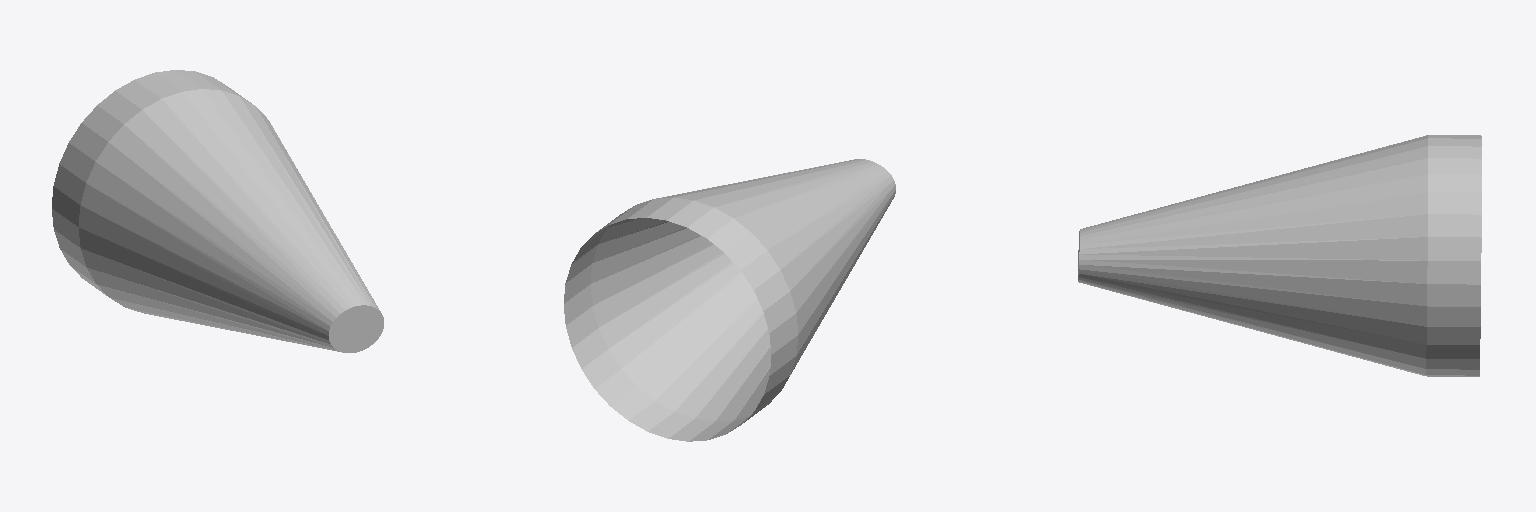
The model's file is RifleBulletTip.obj.
3 renders of one model, left to right at view 1: azimuth 30°, elevation 25°; view 2: azimuth 150°, elevation 25°; view 3: azimuth 270°, elevation 25°, orthographic.
Parts seen in each view (by area): view 1: Cylinder.001; view 2: Cylinder.001; view 3: Cylinder.001.
Part boxes in pixels (x1,y1,x2,y2): Cylinder.001: (52, 70, 383, 352); Cylinder.001: (564, 159, 895, 441); Cylinder.001: (1078, 135, 1481, 376).
Size of the model in its own units: 1.75 by 1.76 by 2.94.